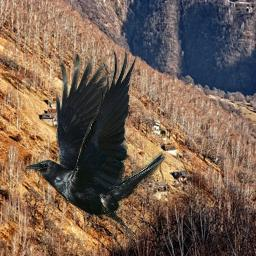Crow: (24, 45, 166, 250)
